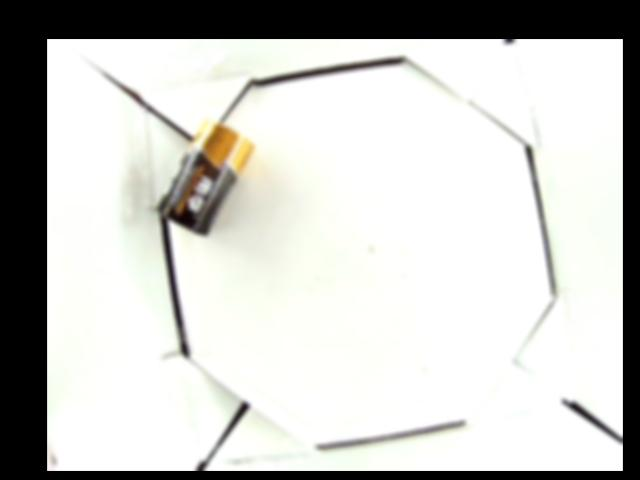Battery: (153, 122, 255, 233)
